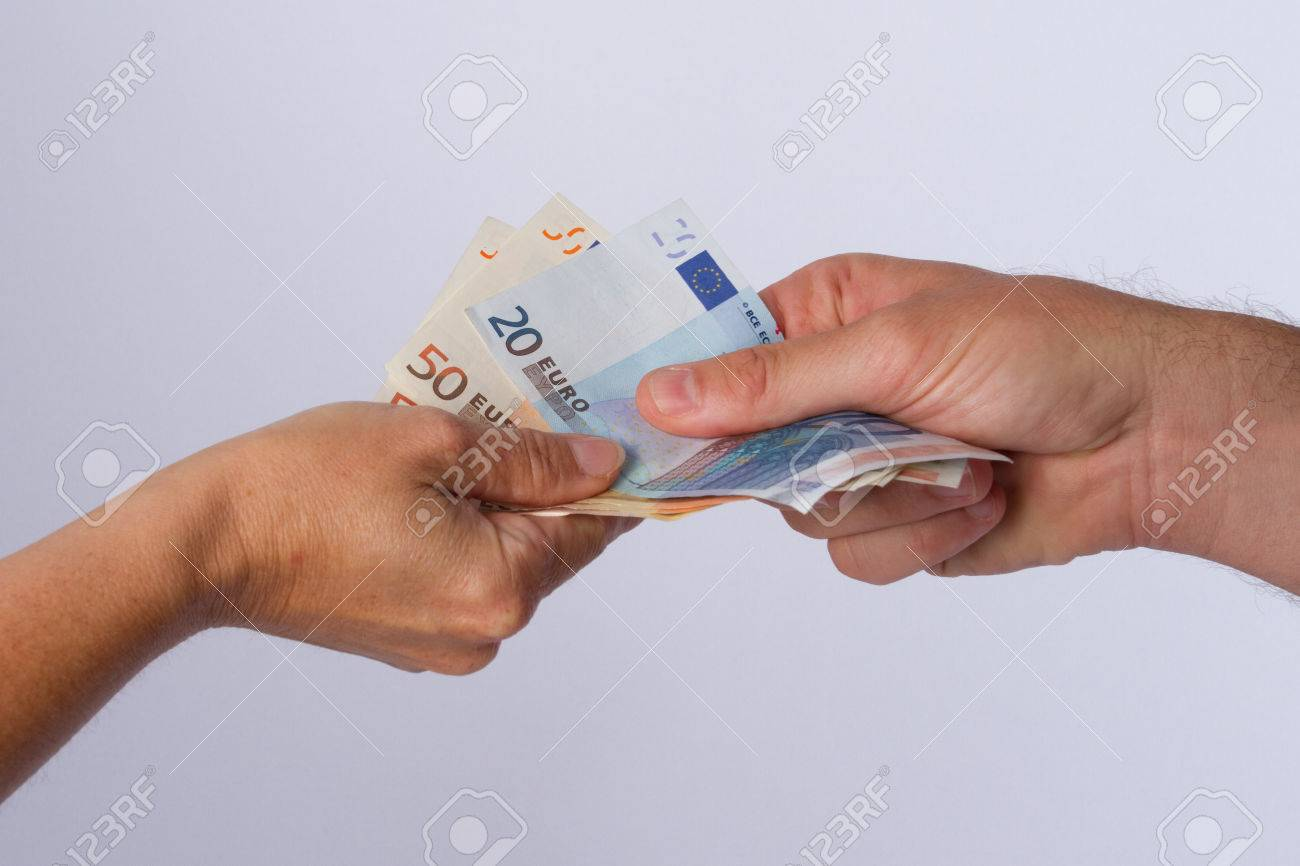billete: (370, 188, 1020, 522)
